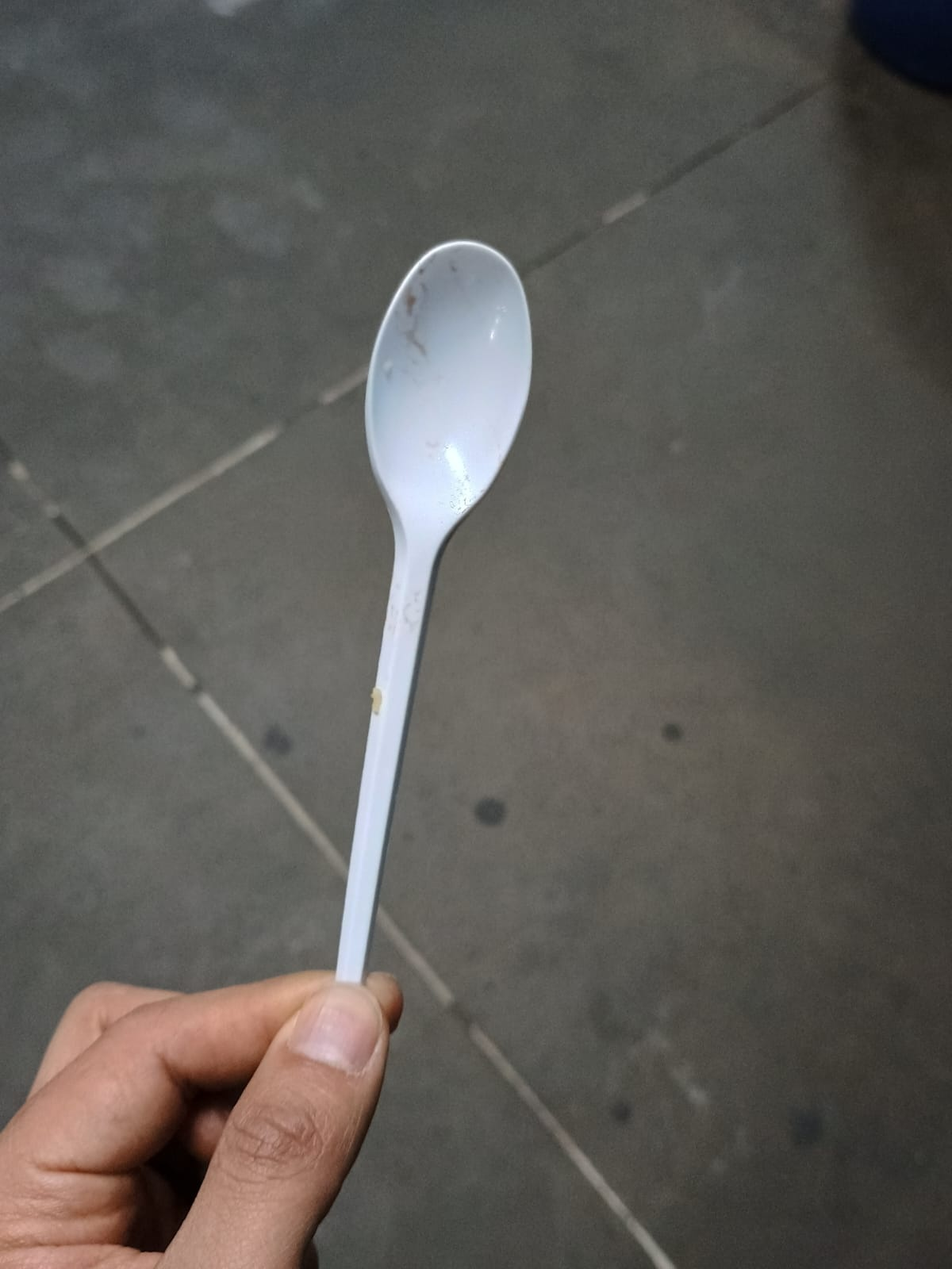Ordinario: (331, 241, 535, 995)
